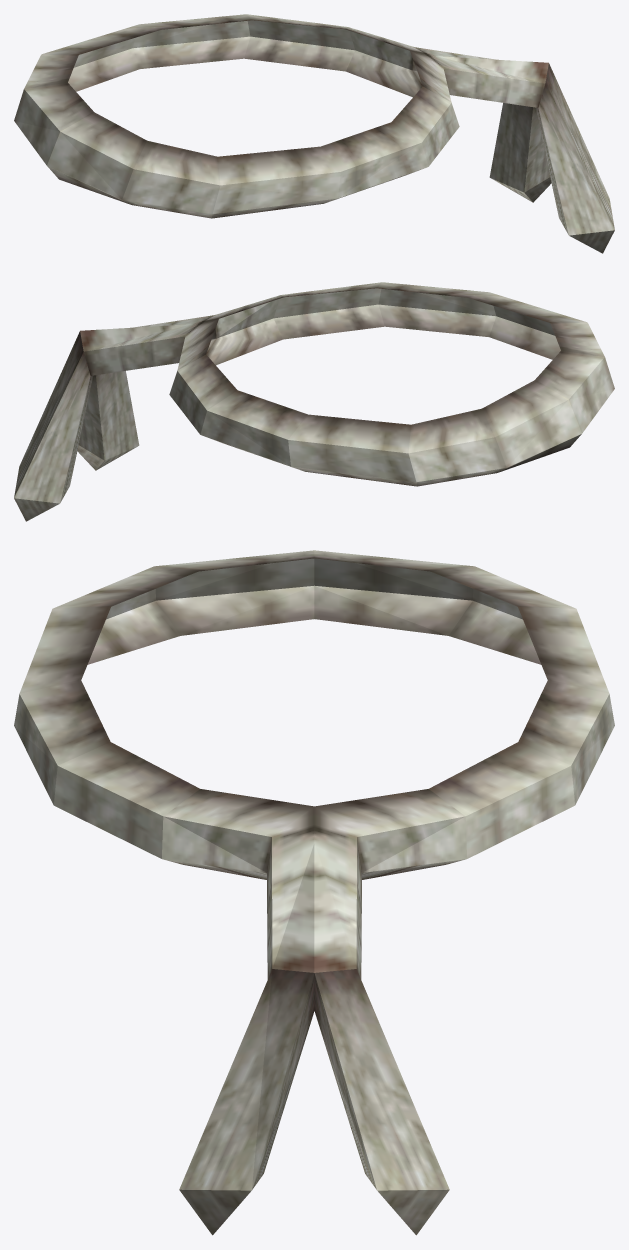
Rendered from Panda_fighterBand.obj.
3 views of the same model, one above another, from view 1: azimuth 30°, elevation 25°; view 2: azimuth 150°, elevation 25°; view 3: azimuth 270°, elevation 25° (orthographic). The views are drawn at different scales.
Parts seen in each view (by area): view 1: Panda_fighterBand_tri; view 2: Panda_fighterBand_tri; view 3: Panda_fighterBand_tri.
Part boxes in pixels (x1,y1,x2,y2): Panda_fighterBand_tri: [14, 14, 614, 253]; Panda_fighterBand_tri: [14, 282, 614, 521]; Panda_fighterBand_tri: [14, 550, 614, 1235].
Size of the model in its own units: 0.5697 by 0.2329 by 0.3742.
1 material, 1 textured.
